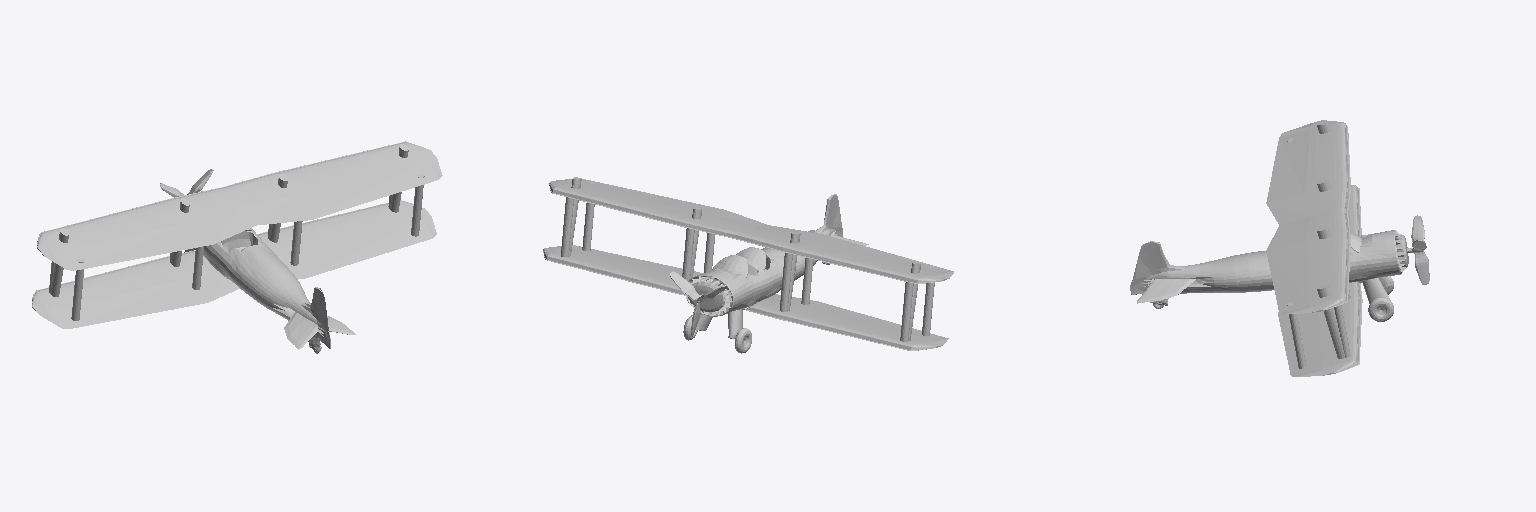
The model's file is biplane.obj.
3 views of the same model, side by side, from view 1: azimuth 30°, elevation 25°; view 2: azimuth 150°, elevation 25°; view 3: azimuth 270°, elevation 25° (orthographic).
Visible parts, largest first — view 1: old_war_plane; view 2: old_war_plane; view 3: old_war_plane.
Boxes of the visible parts, x1=… form: old_war_plane: x1=32, y1=141, x2=442, y2=353; old_war_plane: x1=543, y1=177, x2=953, y2=353; old_war_plane: x1=1130, y1=120, x2=1429, y2=376.
Bounding box in the file's own units: 14.81 × 3.83 × 9.78.